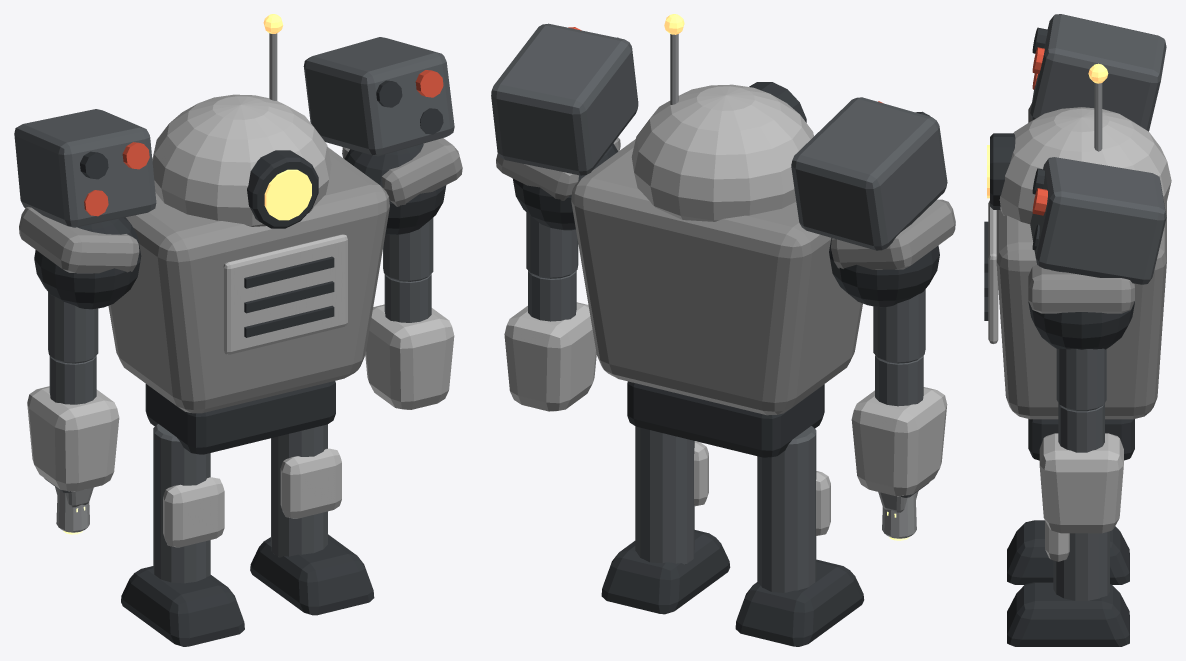
Rendered from lata.glb.
The picture shows the model from 3 angles, left to right: view 1: azimuth 30°, elevation 25°; view 2: azimuth 150°, elevation 25°; view 3: azimuth 270°, elevation 25°; orthographic projection. The views are drawn at different scales.
Parts seen in each view (by area): view 1: p_20, p_26, arma_misseis_36, arma_misseis_41, p_21, p_19, p_18, p_9, p_13, p_4, p_15, p_14 (+19 smaller); view 2: p_20, p_26, arma_misseis_41, arma_misseis_36, p_19, p_18, p_9, p_13, p_4, p_10, p_3, p_12 (+12 smaller); view 3: p_20, arma_misseis_36, arma_misseis_41, p_26, p_9, p_4, p_6, p_13, p_3, p_5, p_7, p_8 (+7 smaller).
Boxes of the visible parts, x1,y1,x2,y2 form: p_20: (108,147,389,413); p_26: (152,94,331,226); arma_misseis_36: (303,37,454,156); arma_misseis_41: (14,109,156,227); p_21: (223,234,347,354); p_19: (145,381,335,454); p_18: (27,386,119,491); p_9: (365,304,454,409); p_13: (121,566,244,646); p_4: (250,534,374,615); p_15: (19,207,139,273); p_14: (34,217,141,309); p_20: (571,139,862,415); p_26: (631,84,813,221); arma_misseis_41: (791,97,947,250); arma_misseis_36: (491,23,638,175); p_19: (627,381,824,457); p_18: (851,387,947,496); p_9: (504,302,596,411); p_13: (735,559,864,646); p_4: (601,530,730,614); p_10: (757,426,816,521); p_3: (635,481,694,564); p_12: (757,510,816,592); p_20: (996,201,1166,419); arma_misseis_36: (1030,157,1166,284); arma_misseis_41: (1030,14,1166,131); p_26: (999,107,1171,224); p_9: (1039,433,1123,533); p_4: (1007,582,1129,646); p_6: (1028,265,1134,313); p_13: (1007,520,1129,584); p_3: (1053,531,1109,600); p_5: (1028,270,1134,349); p_7: (1056,348,1106,411); p_8: (1058,403,1104,452).
Bounding box in the file's own units: 1.36 × 1.85 × 0.5625.
